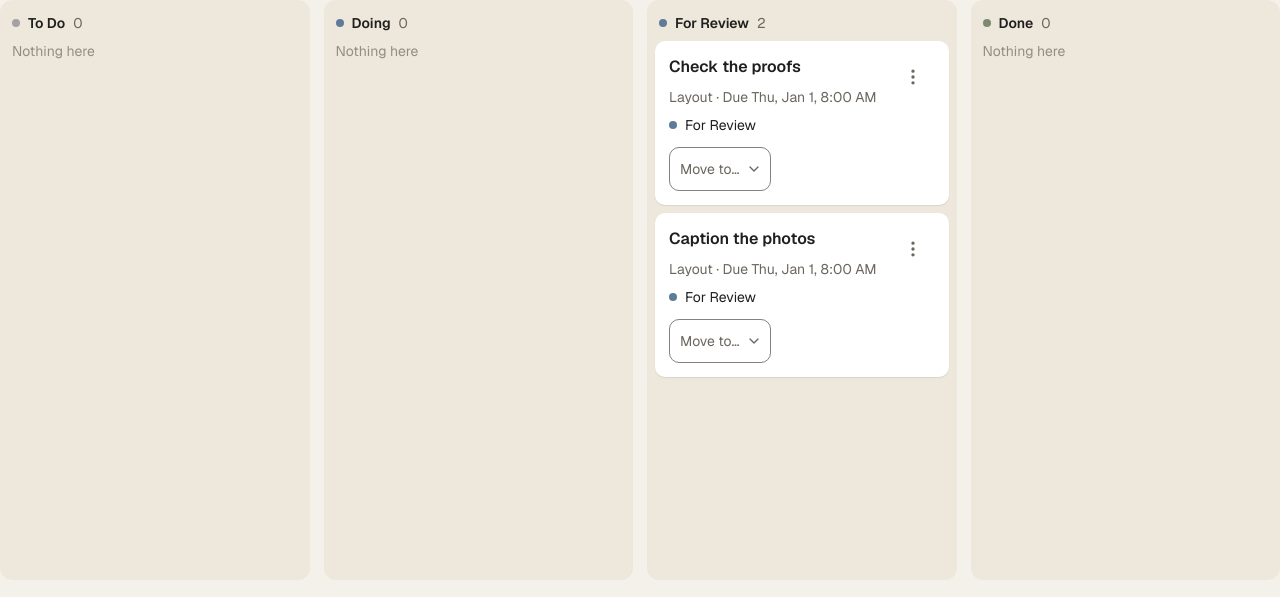
Test: TaskBoard › offers Done in a For Review card's select only when its moves hold it
The width and height of the screenshot is (1280, 597).
Click the dropdown labelled "Move to…" below "Check the proofs": click(720, 169) [669,147,771,191]
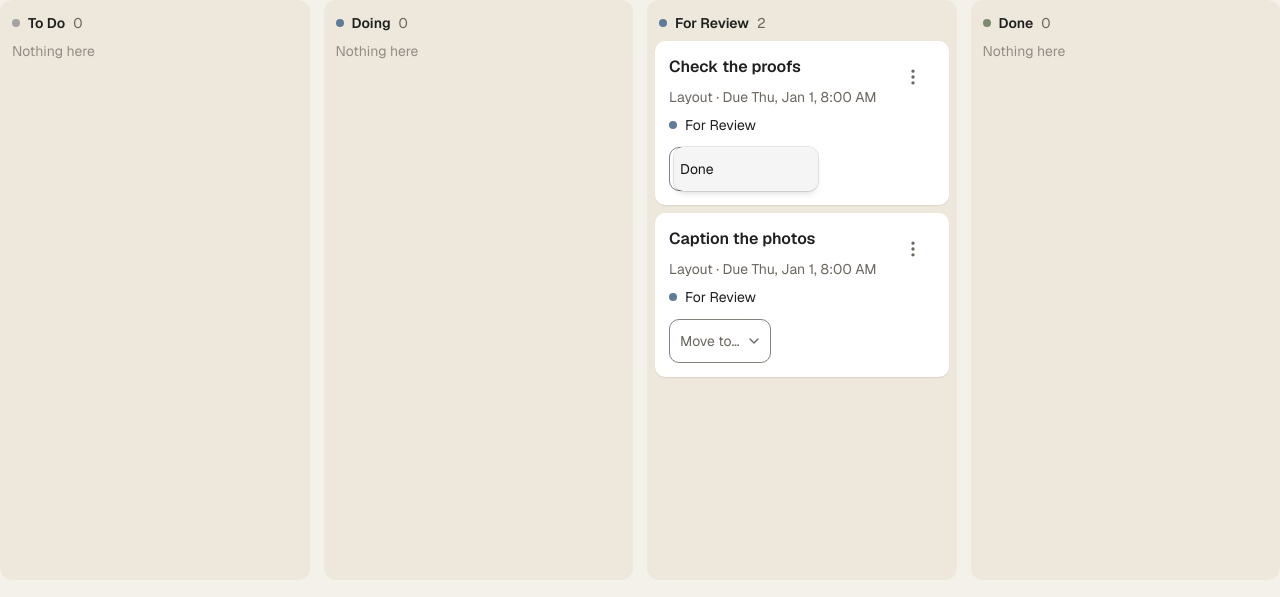
expect the options read "Done", in this order: met, box [674,147,818,191]
Press Escape
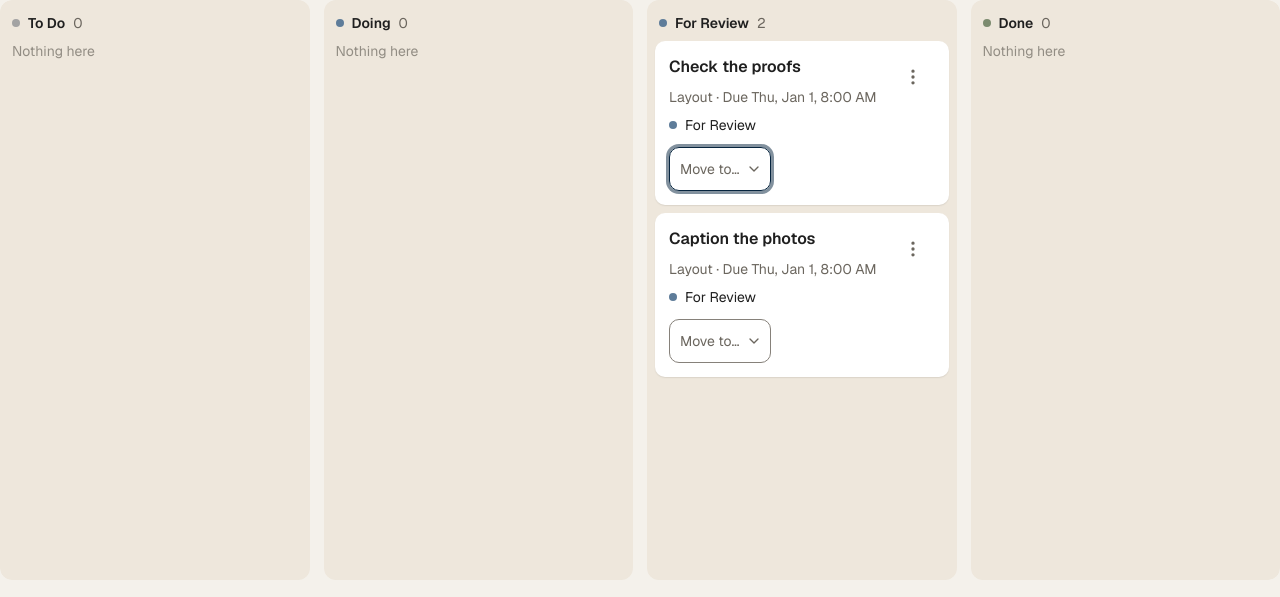
Click the dropdown labelled "Move to…" below "Caption the photos": click(720, 341) [669,319,771,363]
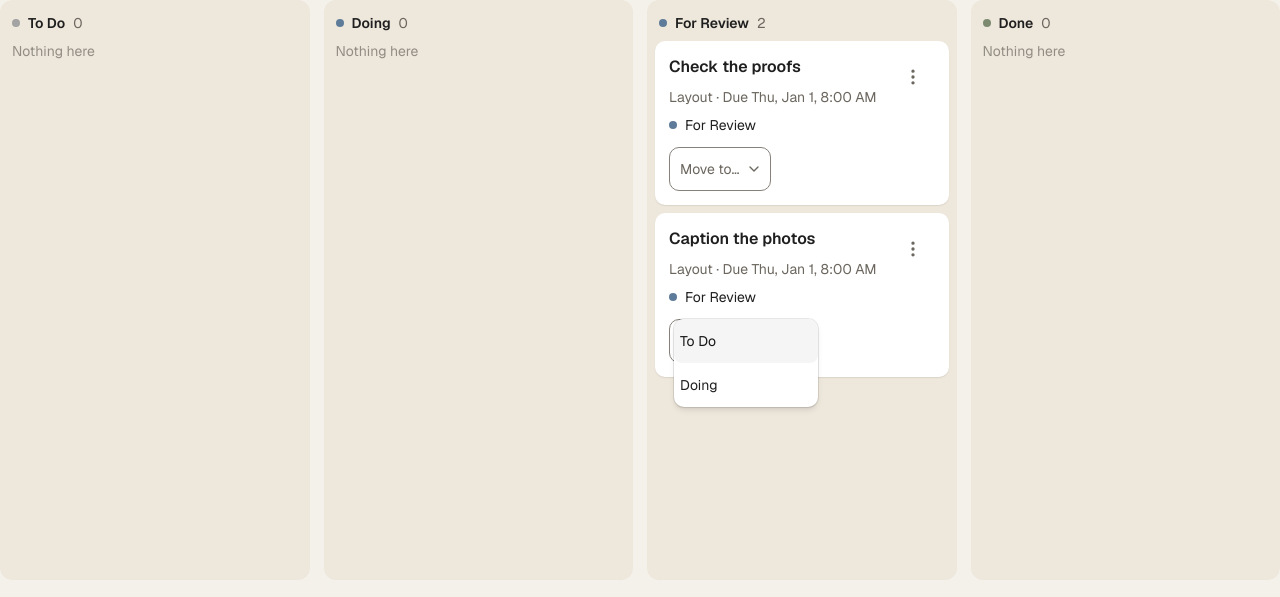
expect the options read "To Do", "Doing", in this order: met, box [674,319,818,363]; [680,376,718,394]
